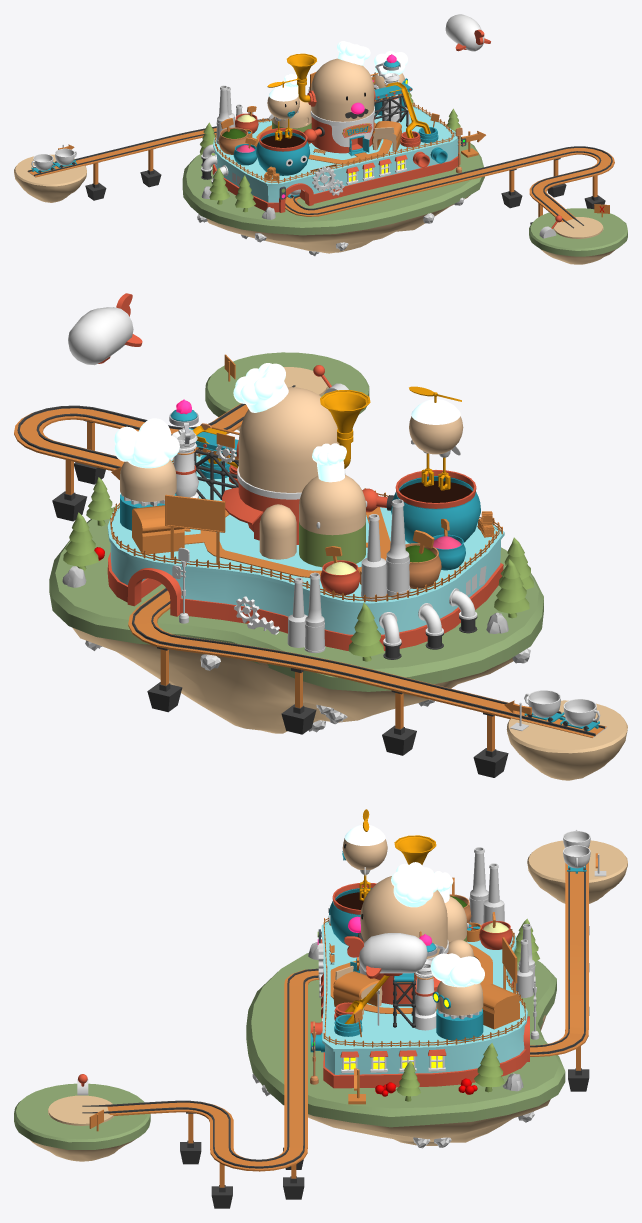
Rendered from BreadFactory.FBX.
3 renders of one model, top to bottom at view 1: azimuth 30°, elevation 25°; view 2: azimuth 150°, elevation 25°; view 3: azimuth 270°, elevation 25°, orthographic. The views are drawn at different scales.
Parts seen in each view (by area): view 1: main_island_grass, base_building, dad_body, front_rail_bed_sweep001, sub_island_grass, main_island, front_rail_metal_sweep, sub_island_start, bowl_shaker, sub_island_end, back_rail_bed_sweep, Fence_0_72 (+23 smaller); view 2: base_building, main_island_grass, main_island, dad_body, back_rail_bed_sweep, mom, sub_island_start, bowl_shaker, sub_island_grass, front_rail_bed_sweep001, back_rail_metal_sweep, Capsule_04 (+37 smaller); view 3: main_island_grass, base_building, front_rail_bed_sweep001, sub_island_grass, dad_body, back_rail_bed_sweep, sub_island_start, main_island, dude, front_rail_metal_sweep, Capsule_04, sub_island_end (+23 smaller).
Part boxes in pixels (<box>): main_island_grass: <box>182,138,484,235</box>; base_building: <box>212,106,460,212</box>; dad_body: <box>311,58,374,153</box>; front_rail_bed_sweep001: <box>285,148,614,222</box>; sub_island_grass: <box>529,208,627,256</box>; main_island: <box>206,195,470,253</box>; front_rail_metal_sweep: <box>285,146,612,227</box>; sub_island_start: <box>14,154,86,202</box>; bowl_shaker: <box>256,128,309,175</box>; sub_island_end: <box>540,217,616,264</box>; back_rail_bed_sweep: <box>27,119,271,177</box>; Fence_0_72: <box>214,102,454,183</box>; base_building: <box>107,454,504,650</box>; main_island_grass: <box>49,505,543,691</box>; main_island: <box>72,627,513,733</box>; dad_body: <box>238,387,339,544</box>; back_rail_bed_sweep: <box>128,588,606,737</box>; mom: <box>299,474,365,567</box>; sub_island_start: <box>506,700,627,780</box>; bowl_shaker: <box>391,470,480,543</box>; sub_island_grass: <box>205,352,369,416</box>; front_rail_bed_sweep001: <box>14,403,248,470</box>; back_rail_metal_sweep: <box>132,588,604,736</box>; Capsule_04: <box>68,307,133,365</box>; main_island_grass: <box>246,953,565,1127</box>; base_building: <box>321,921,527,1088</box>; front_rail_bed_sweep001: <box>107,969,319,1171</box>; sub_island_grass: <box>14,1083,150,1149</box>; dad_body: <box>360,876,447,1004</box>; back_rail_bed_sweep: <box>530,847,588,1056</box>; sub_island_start: <box>527,840,627,903</box>; main_island: <box>308,1015,550,1145</box>; dude: <box>436,981,483,1041</box>; front_rail_metal_sweep: <box>82,968,318,1168</box>; Capsule_04: <box>358,933,427,973</box>; sub_island_end: <box>30,1095,135,1161</box>.
Size of the model in its own units: 9102 by 3865 by 7387.
